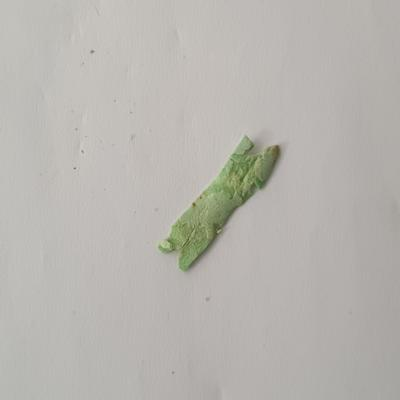plastic: (156, 130, 287, 278)
